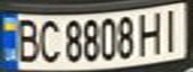0: (100, 15, 121, 62)
8: (115, 12, 139, 60), (60, 16, 84, 63), (81, 16, 103, 63)
B: (9, 15, 42, 64)
C: (36, 16, 60, 64)
H: (136, 8, 166, 56)
I: (154, 6, 187, 53)
